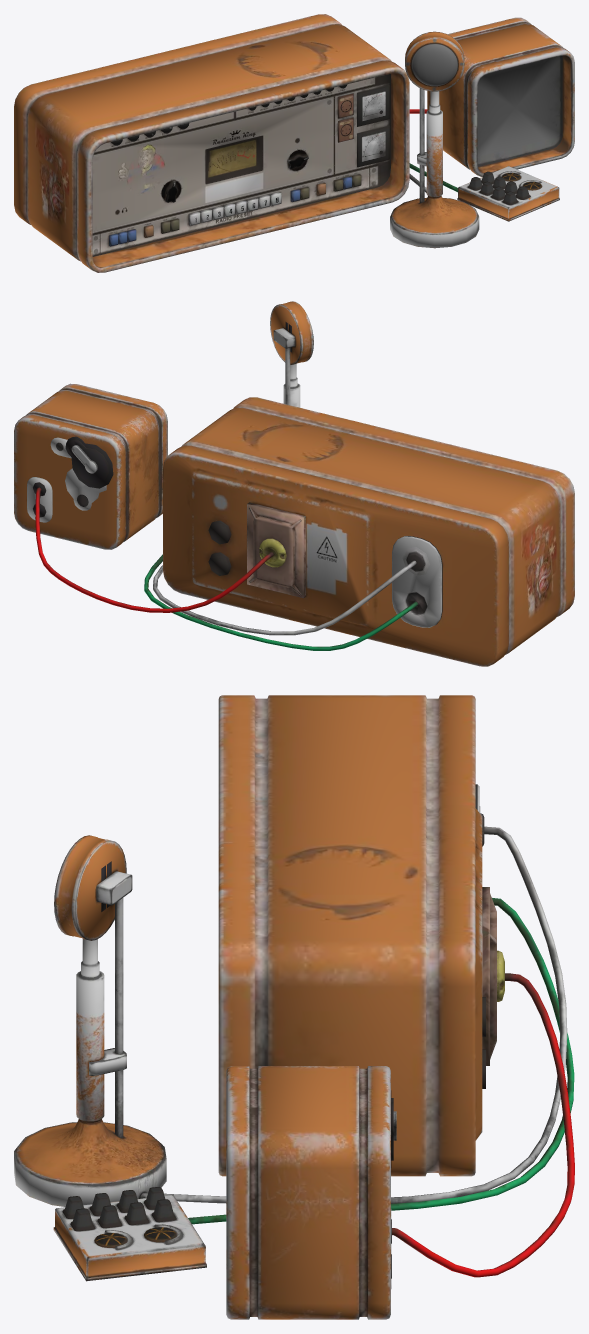
File: fallout_4_ham_radio-opt.glb
3 views of the same model, one above another, from view 1: azimuth 30°, elevation 25°; view 2: azimuth 150°, elevation 25°; view 3: azimuth 270°, elevation 25° (orthographic). The views are drawn at different scales.
Visible parts, largest first — view 1: HamRadio_lp_lambert1_0; view 2: HamRadio_lp_lambert1_0; view 3: HamRadio_lp_lambert1_0.
Part boxes in pixels (left/top/right/bottom): HamRadio_lp_lambert1_0: left=14, top=14, right=574, bottom=272; HamRadio_lp_lambert1_0: left=14, top=301, right=574, bottom=666; HamRadio_lp_lambert1_0: left=14, top=695, right=574, bottom=1319.
Bounding box in the file's own units: 1231 × 467 × 707.
Materials: 1 (1 with a texture image).
